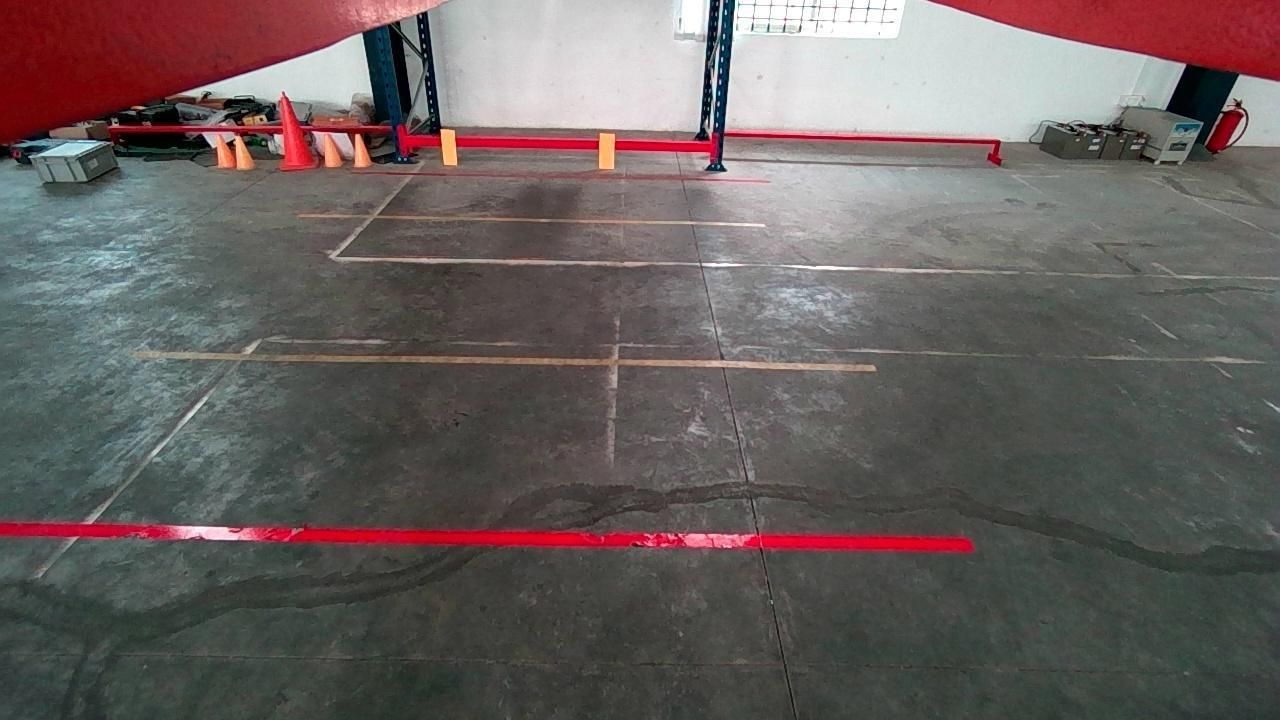h_rack: (408, 135, 713, 152)
orange_strip: (599, 131, 615, 168), (441, 129, 456, 164)
red_line: (1, 521, 975, 552)
yellow_line: (141, 348, 875, 371)
